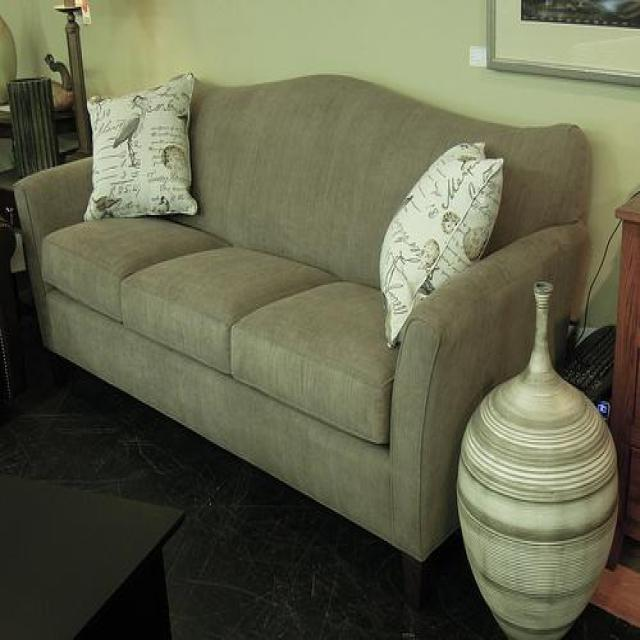sofa: (14, 65, 589, 582)
